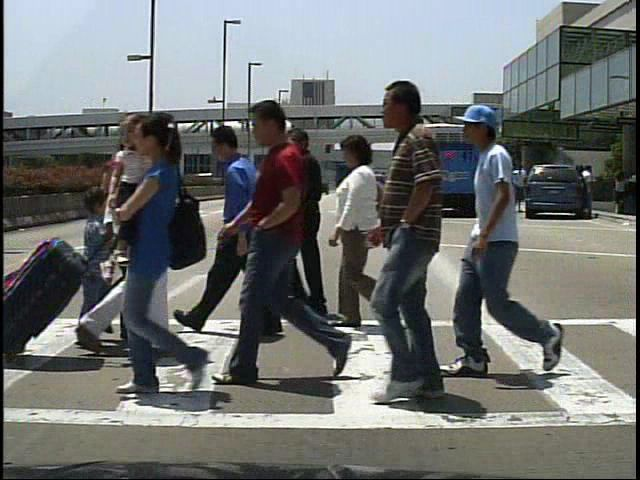person: (364, 84, 496, 422), (244, 93, 334, 386), (465, 102, 548, 379), (188, 123, 285, 346), (311, 135, 404, 333), (274, 130, 346, 322), (98, 116, 153, 361), (116, 113, 156, 370), (66, 193, 120, 340), (582, 167, 602, 218), (509, 165, 529, 215), (497, 166, 515, 218)
